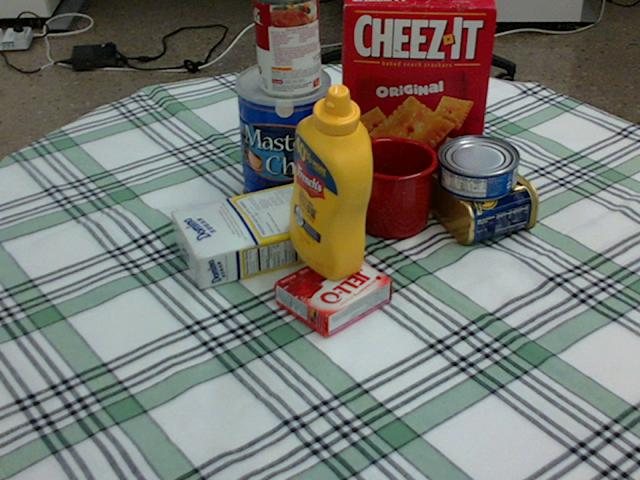cracker_box: (340, 0, 497, 183)
gelatin_box: (276, 249, 393, 337)
master_chef_can: (234, 61, 330, 214)
mug: (351, 135, 439, 237)
mustard_bottle: (289, 83, 372, 280)
potted_meat_can: (424, 149, 537, 240)
sugar_box: (169, 175, 357, 289)
tomato_soup_can: (253, 0, 321, 96)
tuna_fish_can: (437, 136, 519, 199)
